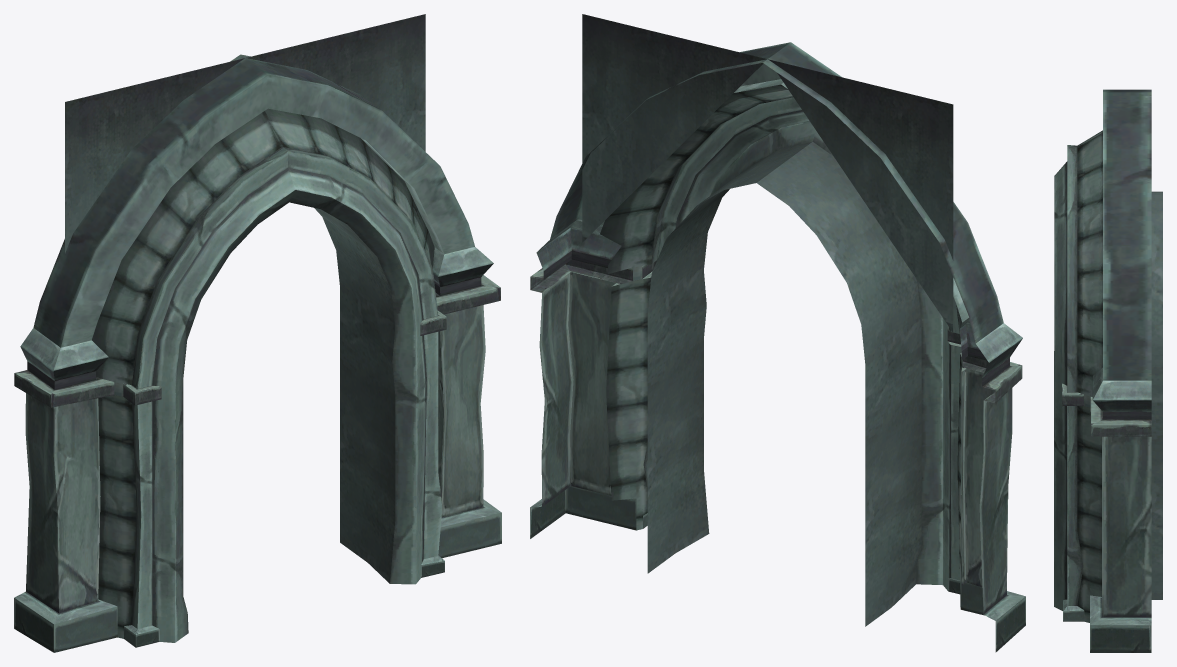
Rendered from crypt_door_straight_01.fbx.
3 renders of one model, left to right at view 1: azimuth 30°, elevation 25°; view 2: azimuth 150°, elevation 25°; view 3: azimuth 270°, elevation 25°, orthographic. The views are drawn at different scales.
Visible parts, largest first — view 1: crypt_door_straight_01-0; view 2: crypt_door_straight_01-0; view 3: crypt_door_straight_01-0.
Boxes of the visible parts, left/top/right/bottom form: crypt_door_straight_01-0: left=14, top=14, right=501, bottom=652; crypt_door_straight_01-0: left=530, top=14, right=1025, bottom=652; crypt_door_straight_01-0: left=1054, top=89, right=1162, bottom=652.
Size of the model in its own units: 5.02 by 5.5 by 1.17.
